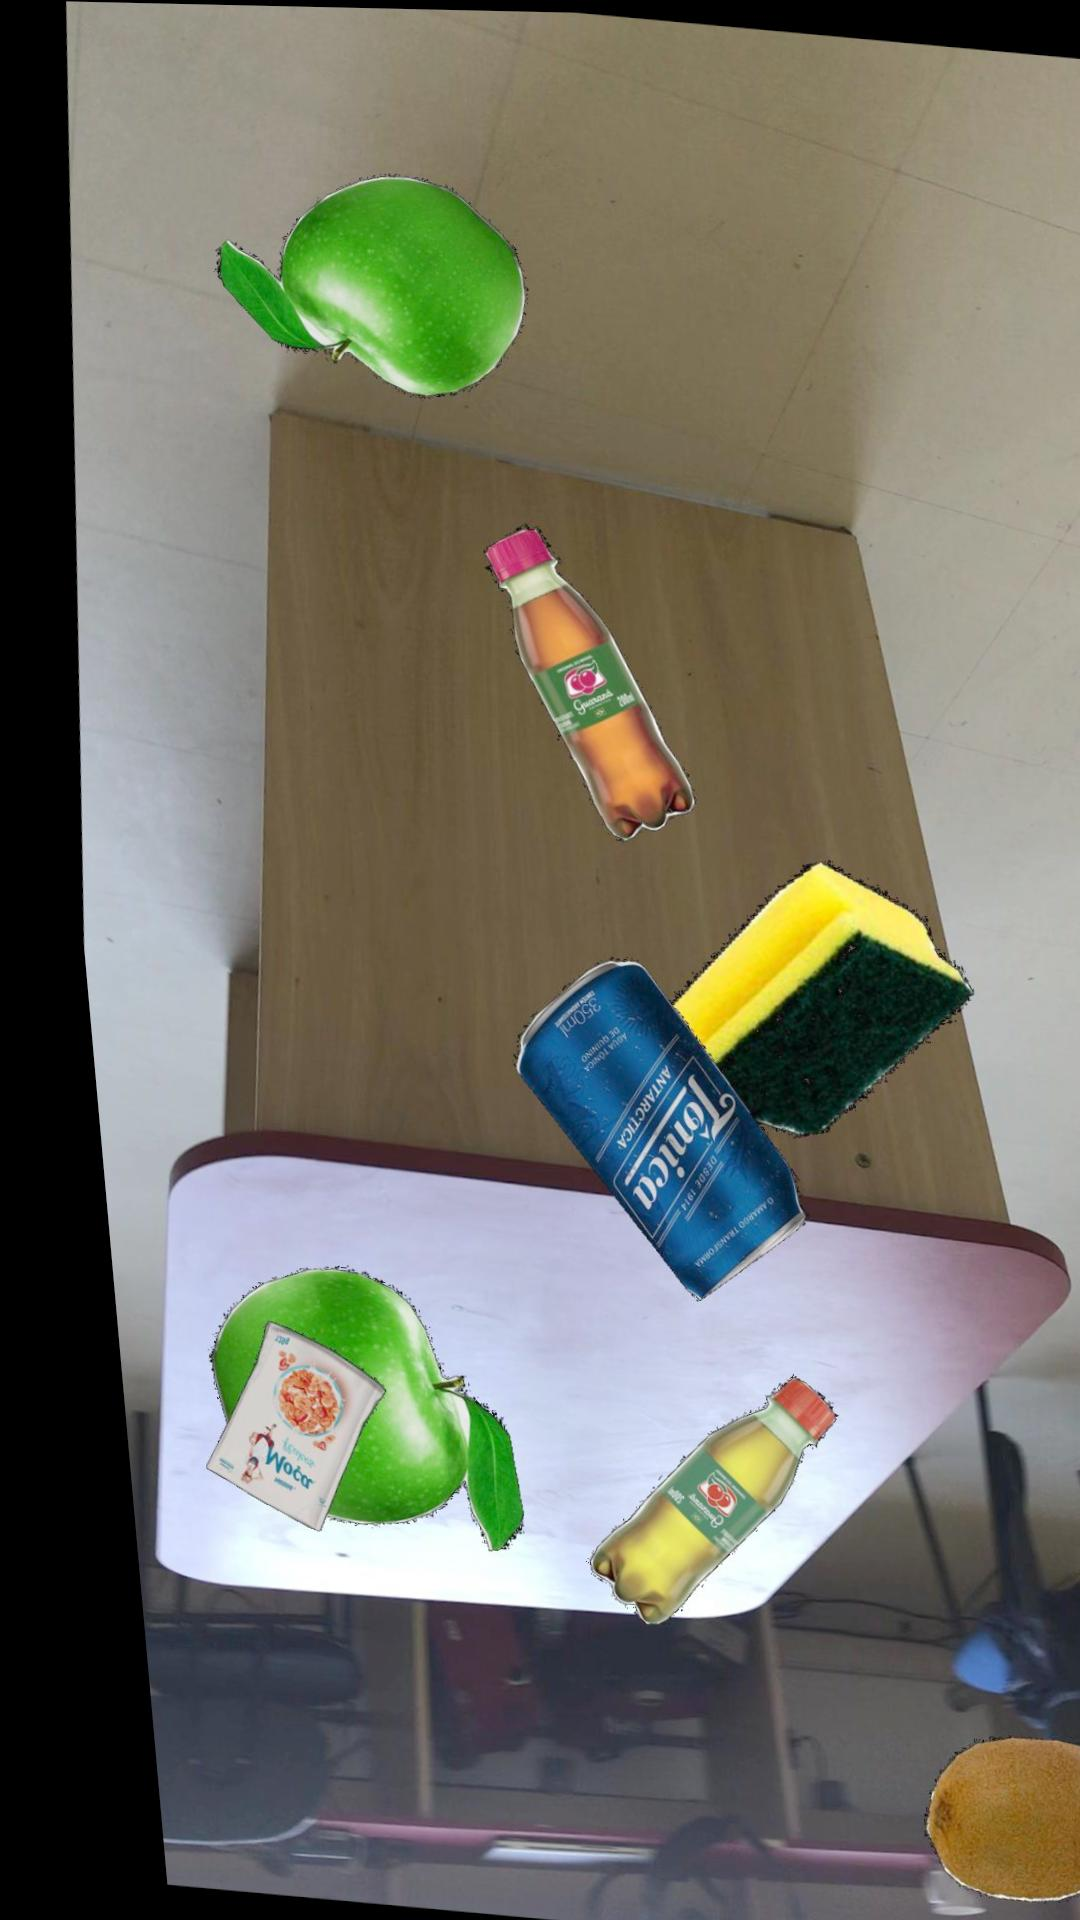corn flakes: (179, 1321, 361, 1532)
green apple: (185, 1266, 496, 1551), (212, 174, 521, 397)
guarana: (475, 526, 682, 841), (562, 1374, 814, 1625)
kiwi: (891, 1733, 1080, 1900)
sponge: (653, 860, 956, 1137)
tonic: (495, 956, 785, 1300)
